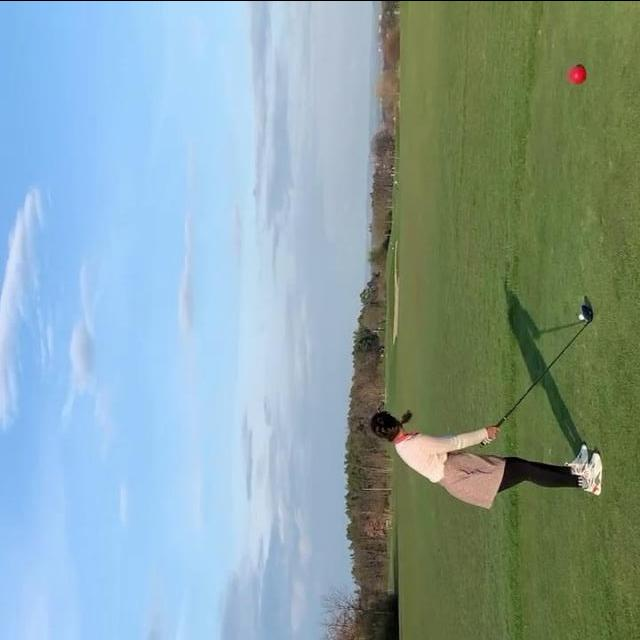golf ball: (579, 313, 584, 319)
golf club-handle: (478, 302, 596, 448)
golf club-head: (581, 303, 593, 320)
